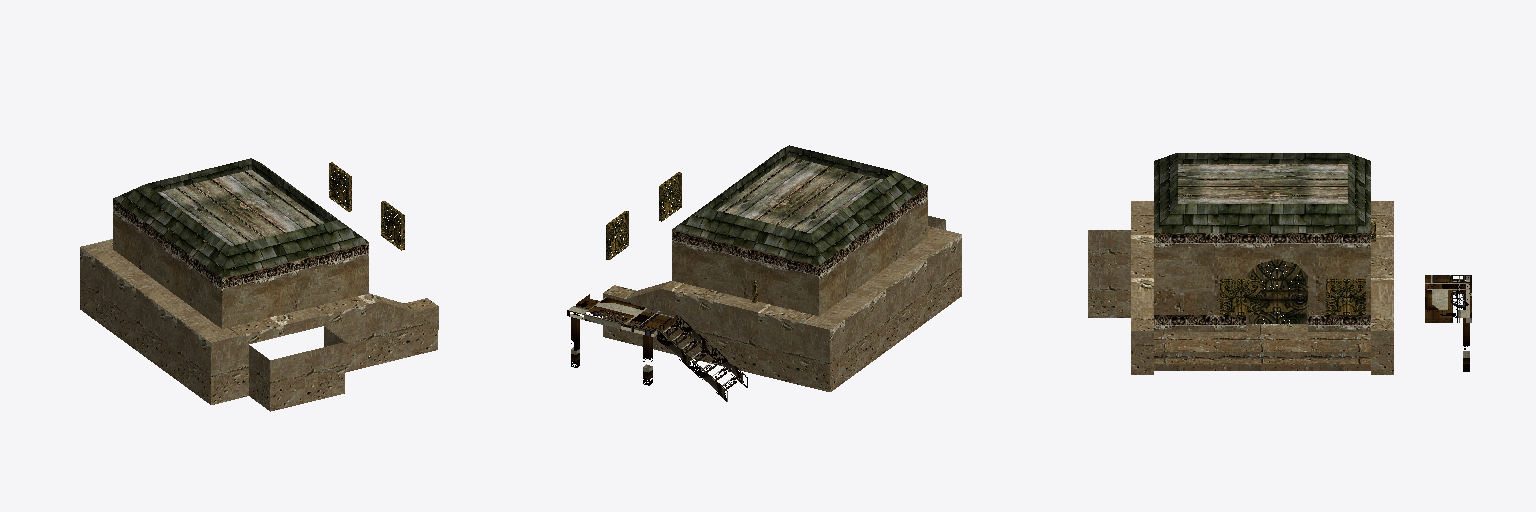
3 views of the same model, side by side, from view 1: azimuth 30°, elevation 25°; view 2: azimuth 150°, elevation 25°; view 3: azimuth 270°, elevation 25° (orthographic).
Visible parts, largest first — view 1: Mesh_1, Mesh_2, Mesh_3, Mesh_0, Mesh_7; view 2: Mesh_1, Mesh_2, Mesh_3, Mesh_0, Mesh_6, Mesh_7; view 3: Mesh_2, Mesh_1, Mesh_3, Mesh_5, Mesh_0, Mesh_4, Mesh_7, Mesh_6.
Boxes of the visible parts, x1=… form: Mesh_1: x1=80, y1=219, x2=438, y2=411; Mesh_2: x1=113, y1=167, x2=368, y2=328; Mesh_3: x1=113, y1=158, x2=367, y2=277; Mesh_0: x1=158, y1=170, x2=323, y2=245; Mesh_7: x1=175, y1=162, x2=404, y2=250; Mesh_1: x1=603, y1=208, x2=961, y2=391; Mesh_2: x1=672, y1=154, x2=927, y2=315; Mesh_3: x1=673, y1=145, x2=927, y2=264; Mesh_0: x1=717, y1=157, x2=882, y2=232; Mesh_6: x1=567, y1=294, x2=747, y2=401; Mesh_7: x1=606, y1=172, x2=757, y2=302; Mesh_2: x1=1154, y1=161, x2=1370, y2=331; Mesh_1: x1=1088, y1=201, x2=1393, y2=374; Mesh_3: x1=1154, y1=153, x2=1370, y2=232; Mesh_5: x1=1154, y1=324, x2=1370, y2=370; Mesh_0: x1=1178, y1=164, x2=1347, y2=203; Mesh_4: x1=1246, y1=259, x2=1307, y2=323; Mesh_7: x1=1220, y1=222, x2=1375, y2=314; Mesh_6: x1=1425, y1=275, x2=1471, y2=371.
Bounding box in the file's own units: 6.29 × 3.33 × 8.78.
8 materials, 8 textured.